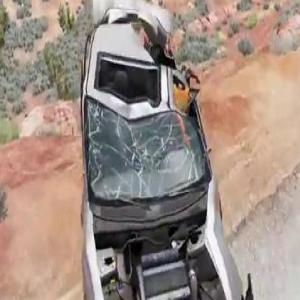fatal: (76, 0, 260, 300)
